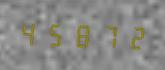eight: (68, 19, 92, 50)
five: (43, 18, 67, 49)
four: (18, 17, 42, 48)
seven: (93, 20, 117, 51)
two: (118, 21, 142, 52)
